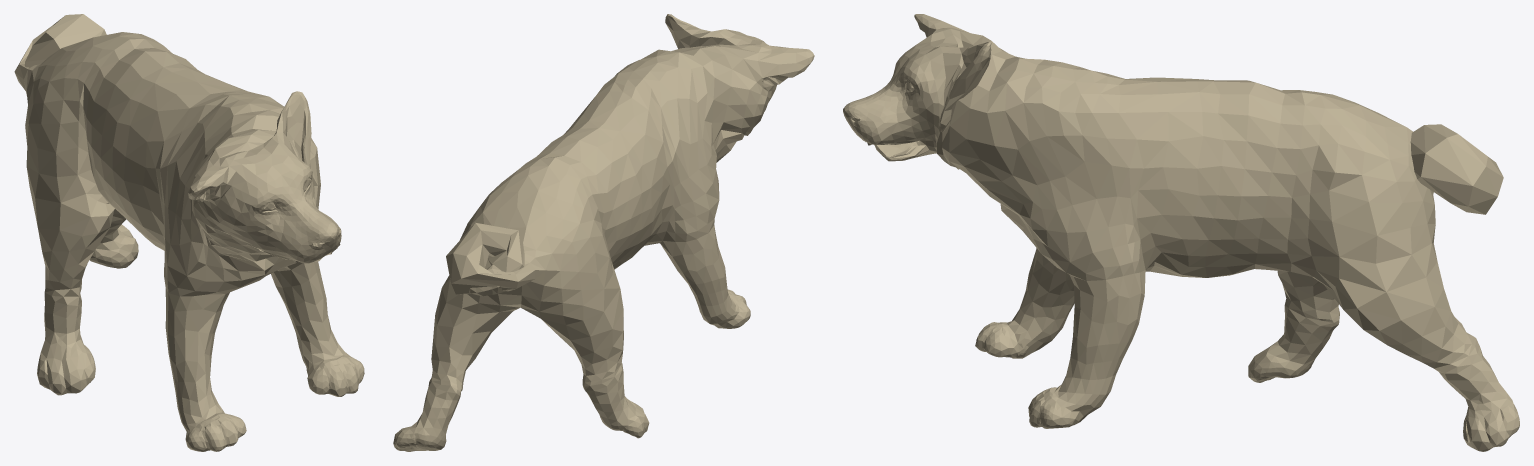
3 views of the same model, side by side, from view 1: azimuth 30°, elevation 25°; view 2: azimuth 150°, elevation 25°; view 3: azimuth 270°, elevation 25° (orthographic). The views are drawn at different scales.
Visible parts, largest first — view 1: world; view 2: world; view 3: world.
Boxes of the visible parts, x1,y1,x2,y2 form: world: (14, 14, 364, 451); world: (393, 14, 814, 451); world: (843, 14, 1519, 451).
Size of the model in its own units: 0.529 by 0.8109 by 1.28.
